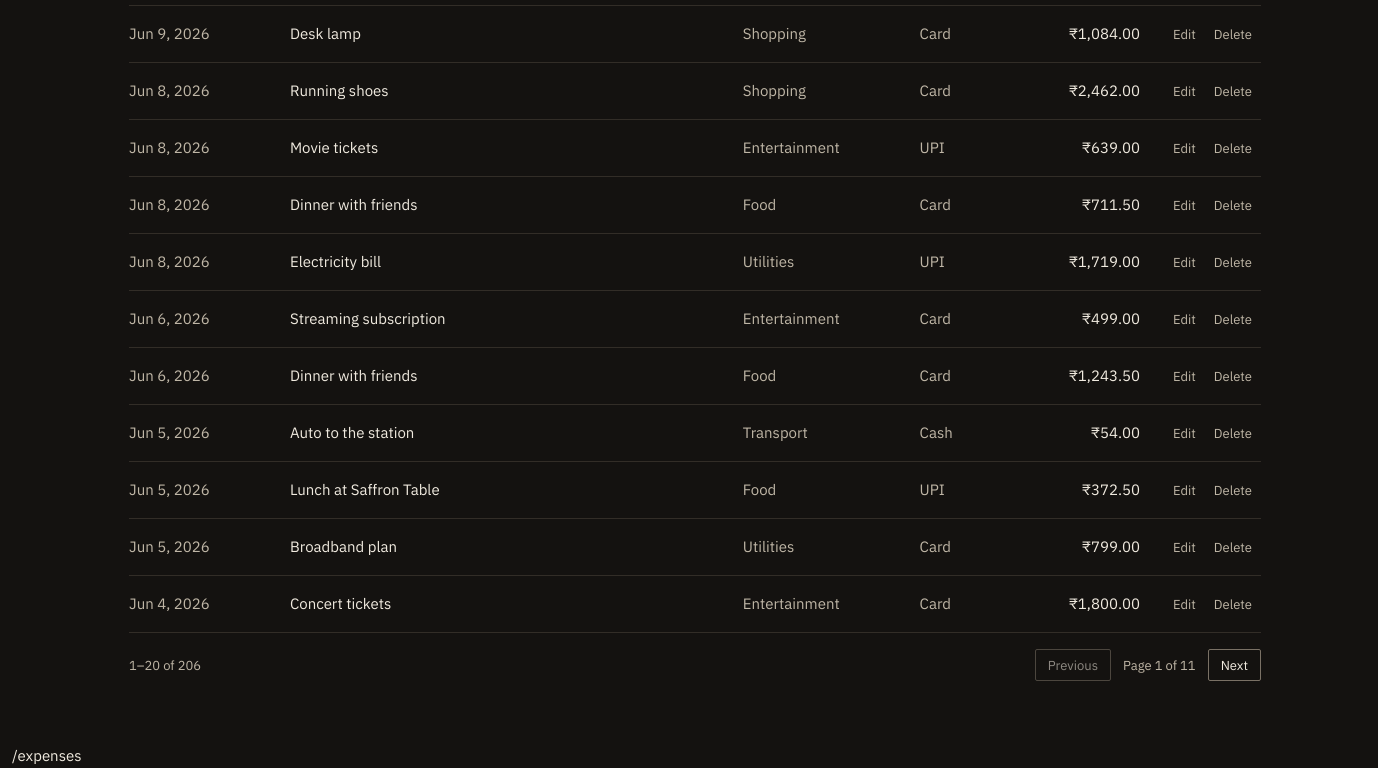
Test case: expense list › moves through pages and keeps the page in the URL
The width and height of the screenshot is (1378, 768).
(page scrolled)
Expected: the button "Previous" is disabled, 1035,649 -> 1111,681
Step 1. Click the button "Next" → [1234, 665], box 1208,649 -> 1261,681
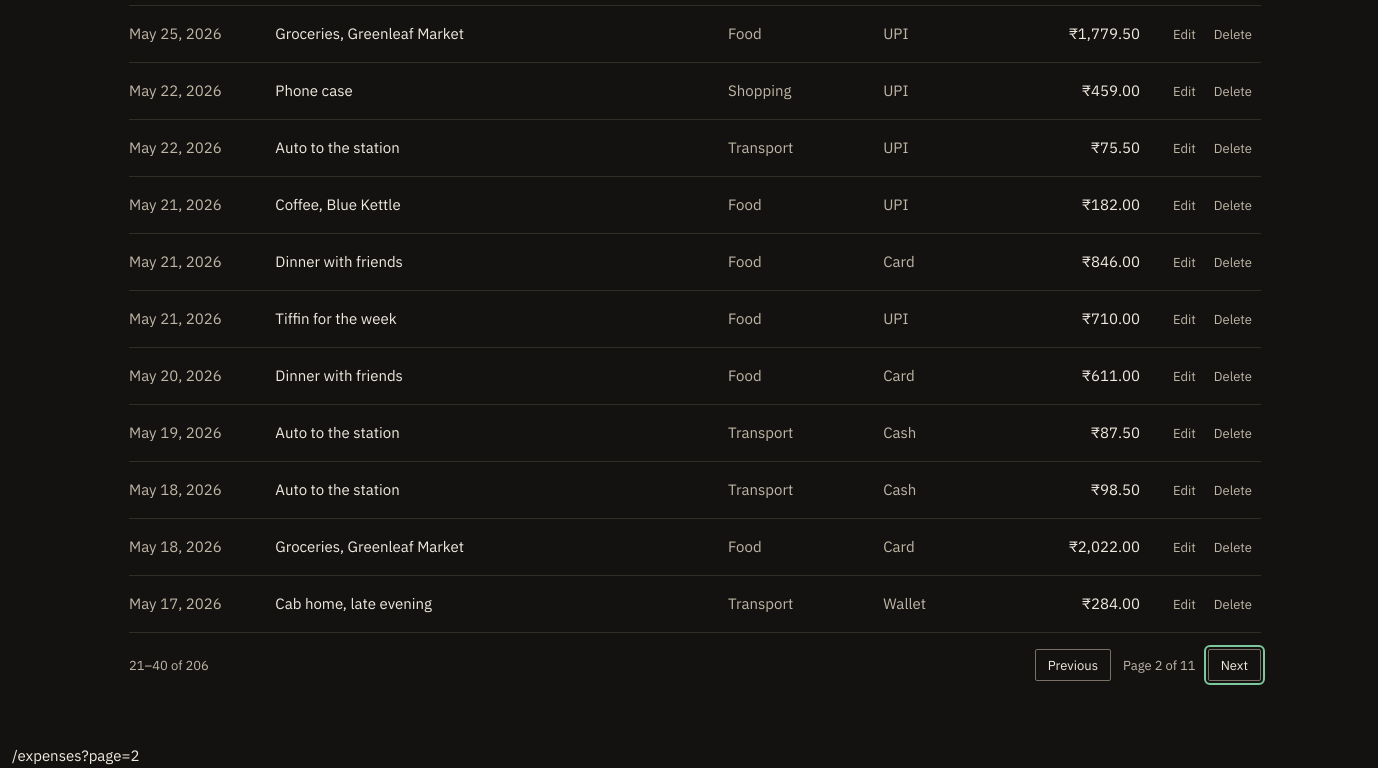
Expected: the text with test id "location" reads "/expenses?page=2", 12,746 -> 139,765
Expected: the button "Previous" is enabled, 1035,649 -> 1111,681
